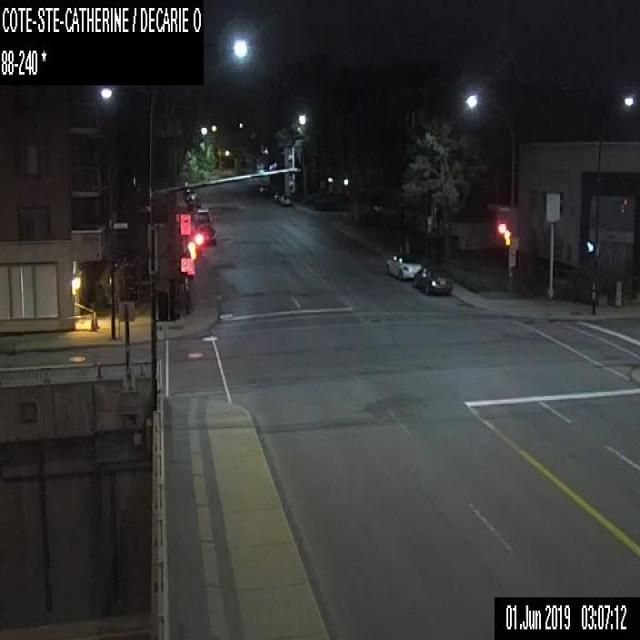vehicle: (412, 264, 451, 294), (386, 253, 421, 280), (196, 224, 216, 245), (195, 208, 212, 224), (188, 192, 200, 208)
